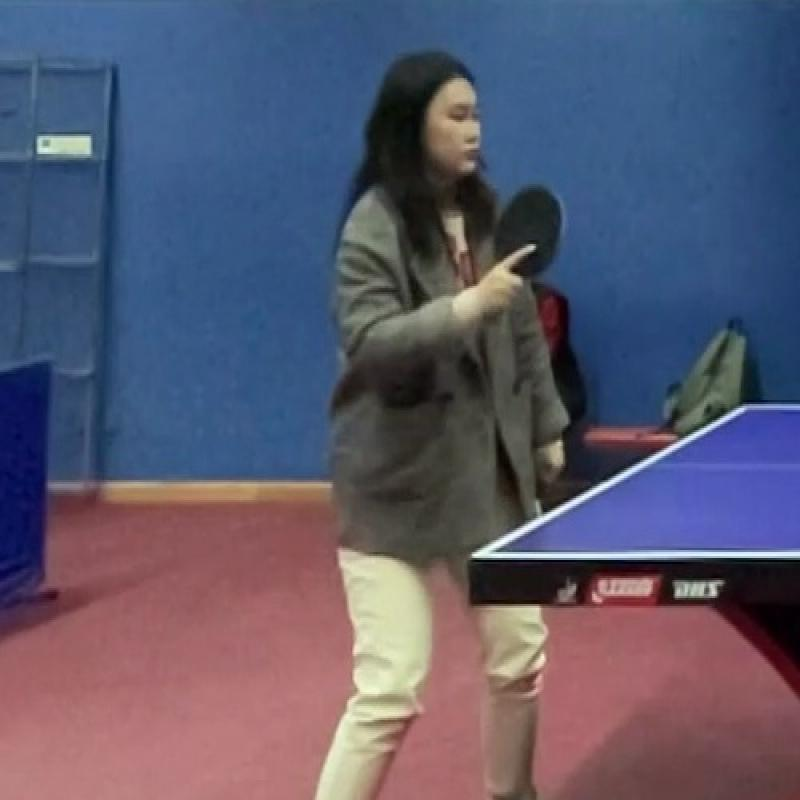bats: (488, 178, 578, 290)
